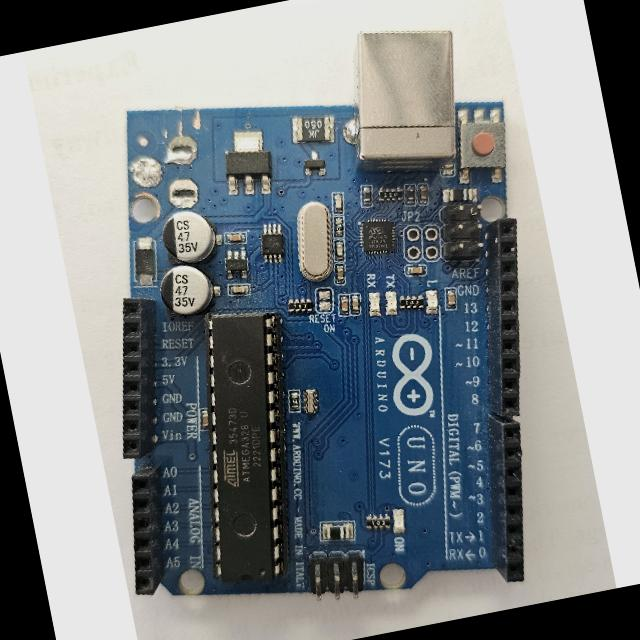missing_eps: (144, 74, 214, 212)
